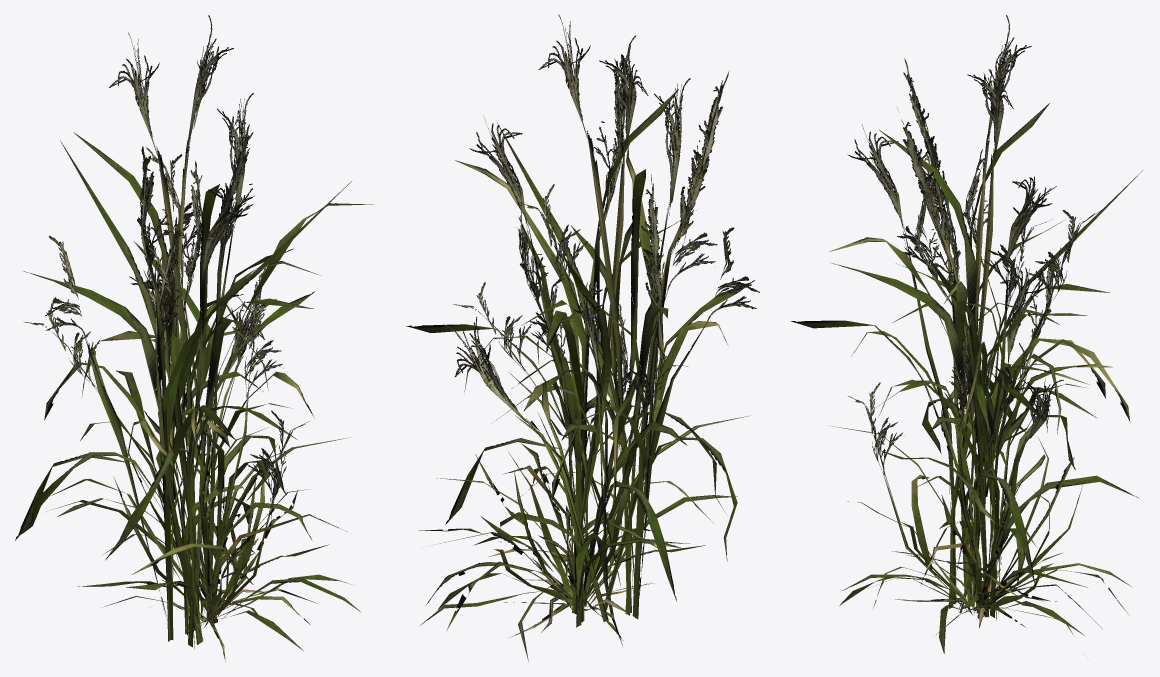
The model's file is tuft-low-packed.glb.
3 renders of one model, left to right at view 1: azimuth 30°, elevation 25°; view 2: azimuth 150°, elevation 25°; view 3: azimuth 270°, elevation 25°, orthographic. The views are drawn at different scales.
Parts seen in each view (by area): view 1: fine-grass-clump-low; view 2: fine-grass-clump-low; view 3: fine-grass-clump-low.
Part boxes in pixels (x1,y1,x2,y2): fine-grass-clump-low: (15,15,373,661); fine-grass-clump-low: (406,14,759,661); fine-grass-clump-low: (791,15,1142,653).
Bounding box in the file's own units: 0.3195 × 0.5809 × 0.3242.
1 material, 1 textured.
